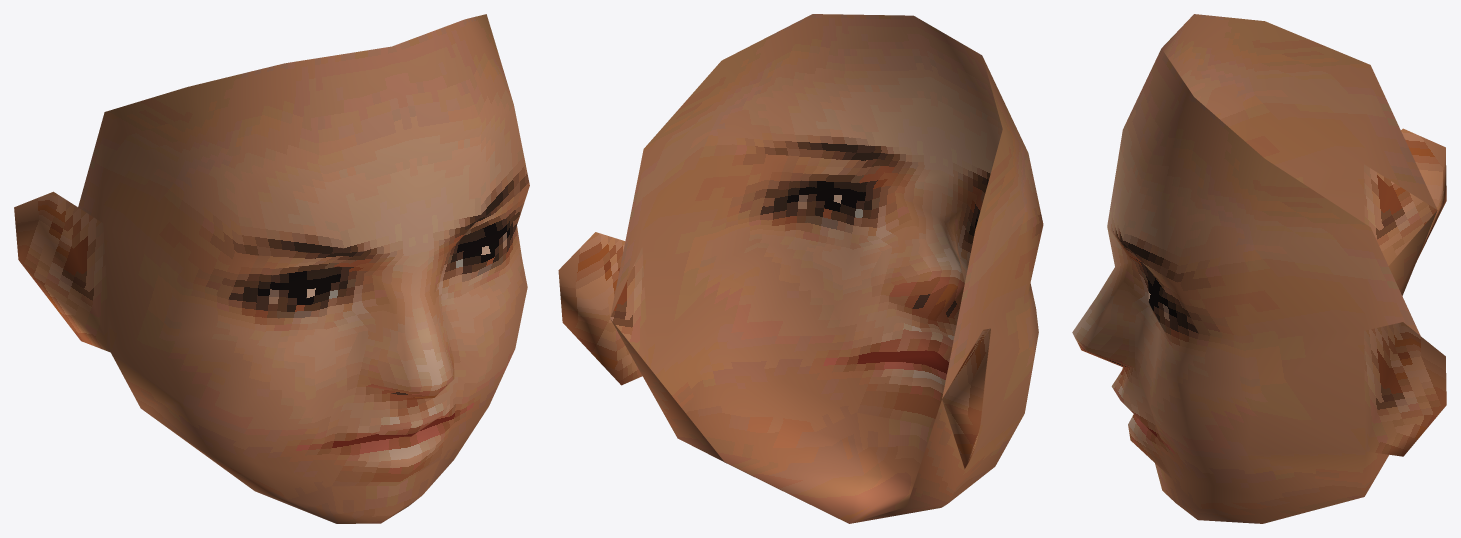
3 renders of one model, left to right at view 1: azimuth 30°, elevation 25°; view 2: azimuth 150°, elevation 25°; view 3: azimuth 270°, elevation 25°, orthographic. The views are drawn at different scales.
Bounding box in the file's own units: 19.4 × 20.15 × 14.69.
1 material, 1 textured.
